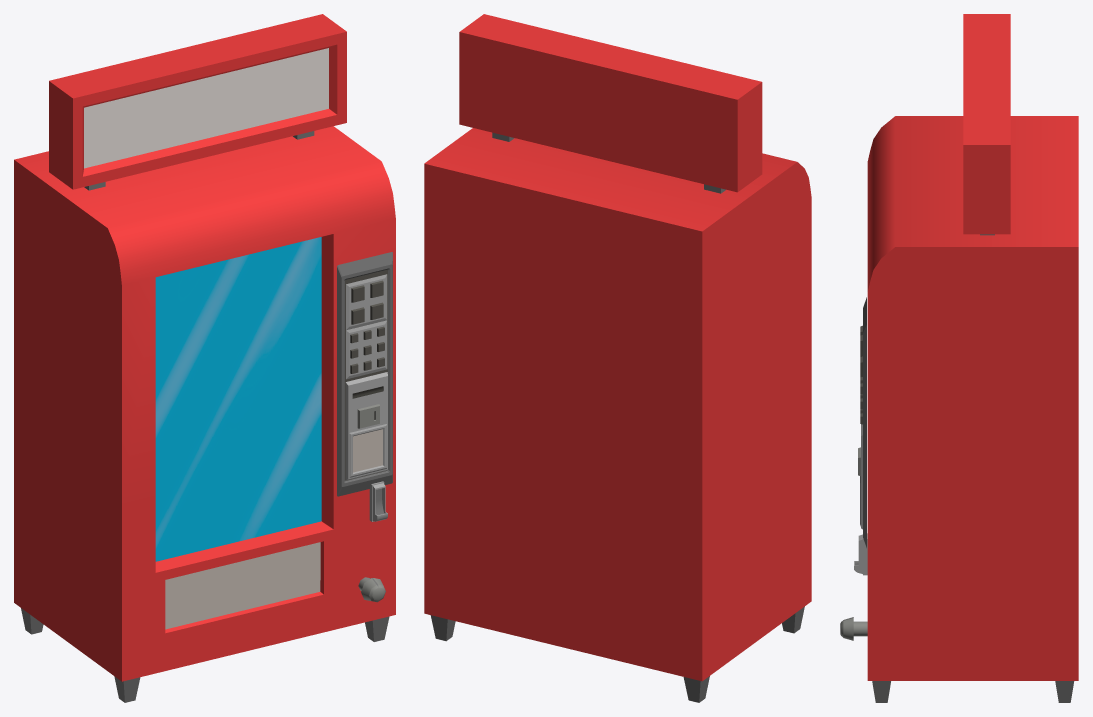
Rendered from Vending_Machine.fbx.
3 renders of one model, left to right at view 1: azimuth 30°, elevation 25°; view 2: azimuth 150°, elevation 25°; view 3: azimuth 270°, elevation 25°, orthographic. The views are drawn at different scales.
Parts seen in each view (by area): view 1: Vending Machine, Vending Machine Sign, Vending Machine Lid; view 2: Vending Machine, Vending Machine Sign; view 3: Vending Machine, Vending Machine Sign.
Boxes of the visible parts, x1=… form: Vending Machine: x1=14, y1=126, x2=395, y2=702; Vending Machine Sign: x1=49, y1=14, x2=346, y2=190; Vending Machine Lid: x1=165, y1=542, x2=320, y2=629; Vending Machine: x1=424, y1=128, x2=811, y2=702; Vending Machine Sign: x1=459, y1=14, x2=762, y2=193; Vending Machine: x1=854, y1=116, x2=1078, y2=702; Vending Machine Sign: x1=963, y1=14, x2=1010, y2=235.
Bounding box in the file's own units: 1.69 × 4.4 × 2.2.
